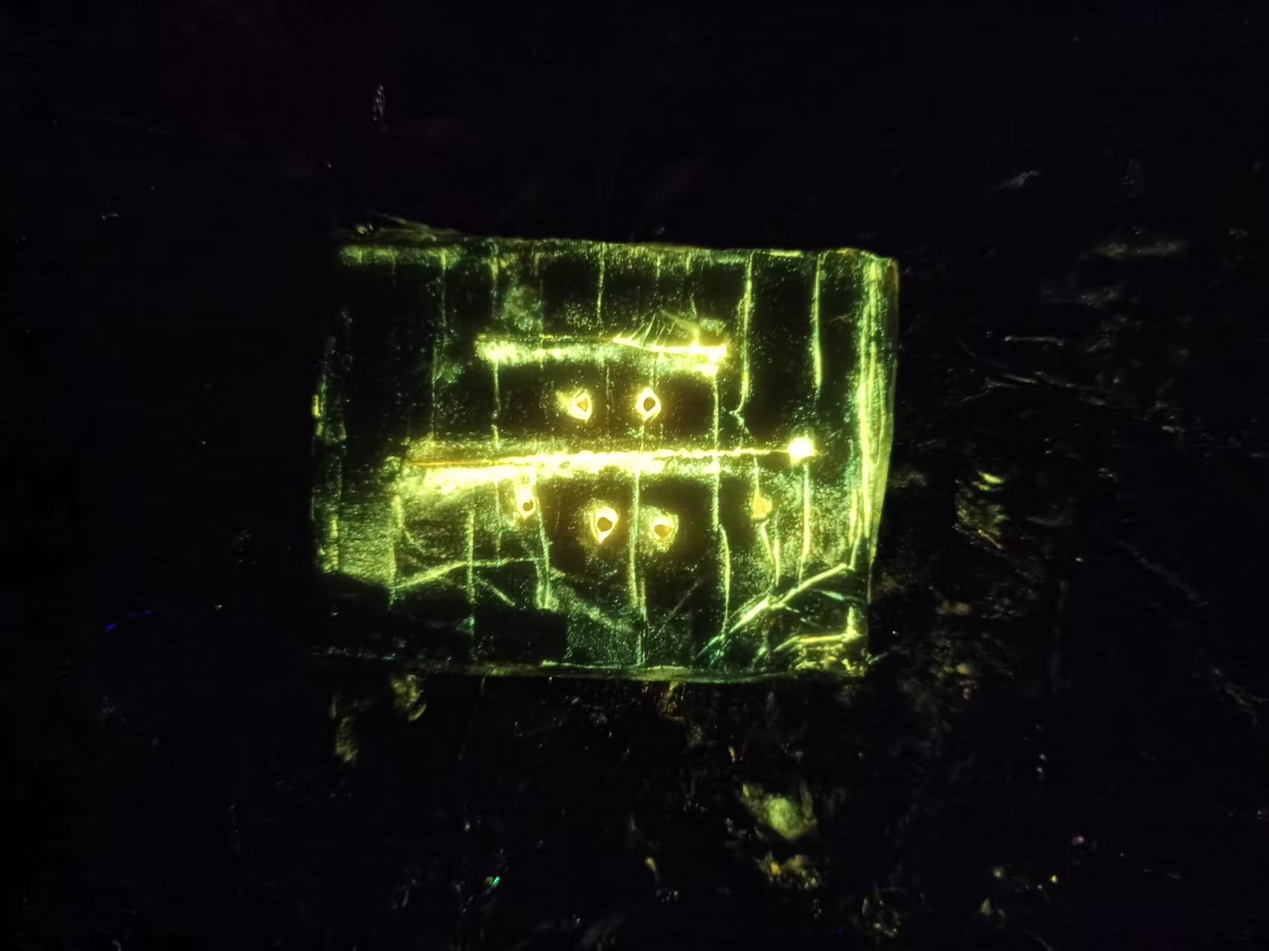Crater: (540, 366, 614, 427), (638, 496, 697, 560), (570, 491, 628, 551), (505, 486, 557, 536), (628, 376, 677, 428)
Fissure: (381, 418, 830, 494), (459, 309, 763, 383)
